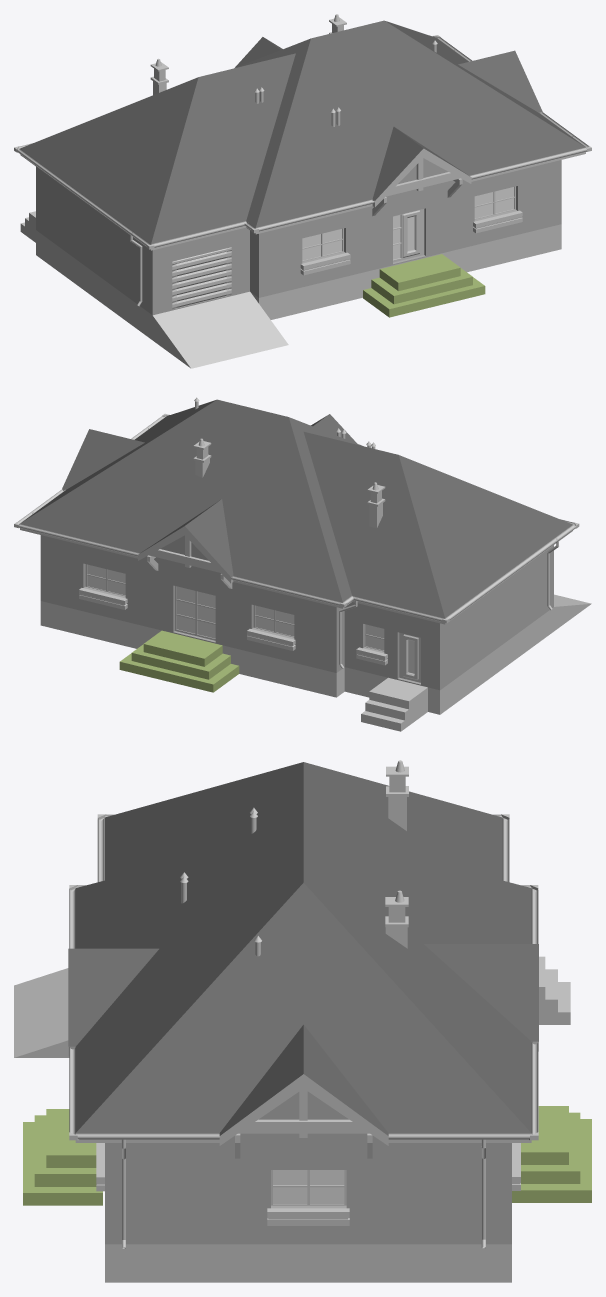
File: dOM.fbx
The picture shows the model from 3 angles, top to bottom: view 1: azimuth 30°, elevation 25°; view 2: azimuth 150°, elevation 25°; view 3: azimuth 270°, elevation 25°; orthographic projection. The views are drawn at different scales.
Parts seen in each view (by area): view 1: DACH, DOM, Cube.013, Plane.009, Cube.002, Cylinder.016, Cube.036, Cube.029, Plane, Plane.002, Cube.011, Cube.050 (+2 smaller); view 2: DACH, DOM, Cube.013, Cube.005, Cylinder.016, Cube.006, Plane.005, Cube.020, Cube.044, Plane.003, Plane.004, Plane.009 (+4 smaller); view 3: DACH, DOM, Cube.013, Cube.005, Cube.002, Cylinder.016, Plane.009, Plane.006, Cube.007, Cube.006, Cube.048.
Part boxes in pixels (x1=…): DACH: x1=20, y1=20, x2=585, y2=250; DOM: x1=36, y1=158, x2=561, y2=315; Cube.013: x1=36, y1=224, x2=561, y2=339; Plane.009: x1=152, y1=291, x2=288, y2=368; Cube.002: x1=363, y1=254, x2=485, y2=317; Cylinder.016: x1=14, y1=35, x2=591, y2=249; Cube.036: x1=172, y1=247, x2=231, y2=309; Cube.029: x1=393, y1=209, x2=424, y2=262; Plane: x1=474, y1=187, x2=514, y2=218; Plane.002: x1=302, y1=229, x2=341, y2=260; Cube.011: x1=386, y1=172, x2=460, y2=196; Cube.050: x1=300, y1=252, x2=350, y2=275; DACH: x1=20, y1=399, x2=572, y2=624; DOM: x1=40, y1=535, x2=553, y2=690; Cube.013: x1=40, y1=601, x2=553, y2=714; Cube.005: x1=119, y1=630, x2=239, y2=692; Cylinder.016: x1=14, y1=413, x2=579, y2=623; Cube.006: x1=361, y1=677, x2=427, y2=731; Plane.005: x1=176, y1=586, x2=215, y2=638; Cube.020: x1=147, y1=536, x2=232, y2=588; Cube.044: x1=399, y1=632, x2=420, y2=682; Plane.003: x1=255, y1=605, x2=294, y2=636; Plane.004: x1=87, y1=564, x2=125, y2=595; Plane.009: x1=554, y1=594, x2=591, y2=631; DACH: x1=68, y1=762, x2=538, y2=1145; DOM: x1=105, y1=1091, x2=511, y2=1244; Cube.013: x1=105, y1=1244, x2=511, y2=1282; Cube.005: x1=512, y1=1106, x2=591, y2=1202; Cube.002: x1=23, y1=1109, x2=102, y2=1205; Cylinder.016: x1=69, y1=814, x2=538, y2=1140; Plane.009: x1=14, y1=968, x2=69, y2=1057; Plane.006: x1=273, y1=1170, x2=344, y2=1204; Cube.007: x1=235, y1=1088, x2=372, y2=1158; Cube.006: x1=539, y1=956, x2=570, y2=1024; Cube.048: x1=267, y1=1208, x2=349, y2=1225.
Bounding box in the file's own units: 1809 × 830 × 1373.
